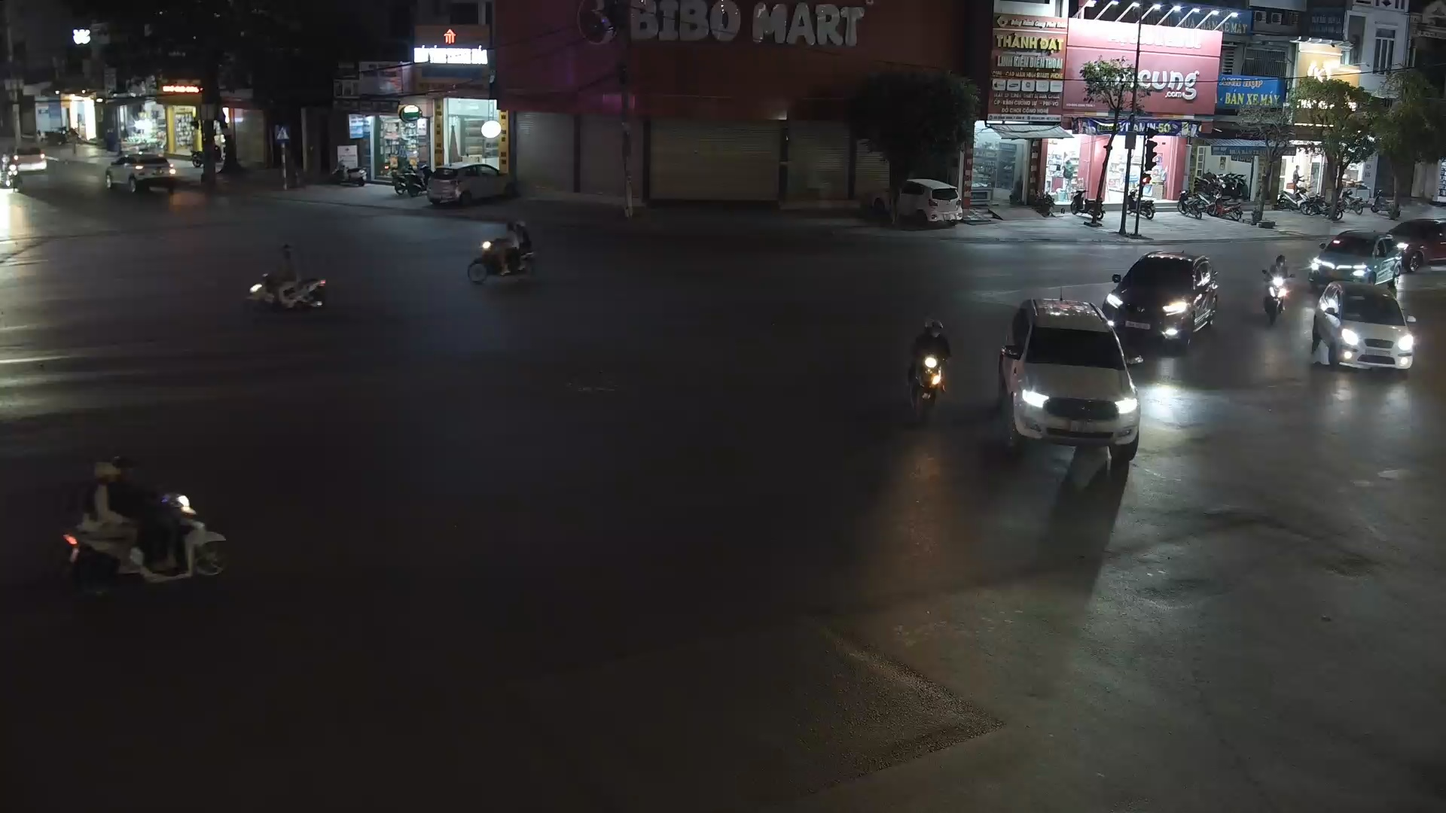car: (998, 295, 1145, 457), (1106, 248, 1220, 348), (1304, 278, 1419, 377), (1307, 228, 1405, 297), (1389, 210, 1445, 275)
motorbike: (61, 450, 228, 596), (245, 239, 332, 319), (905, 316, 955, 422), (465, 216, 538, 287), (1260, 253, 1294, 326)
